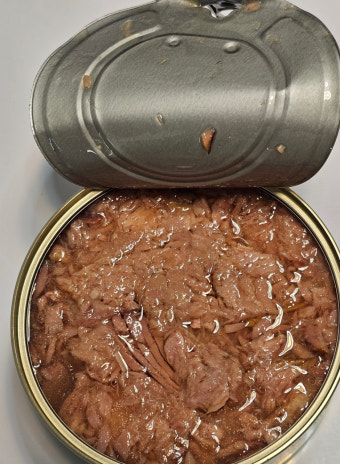paper: (19, 2, 340, 464)
